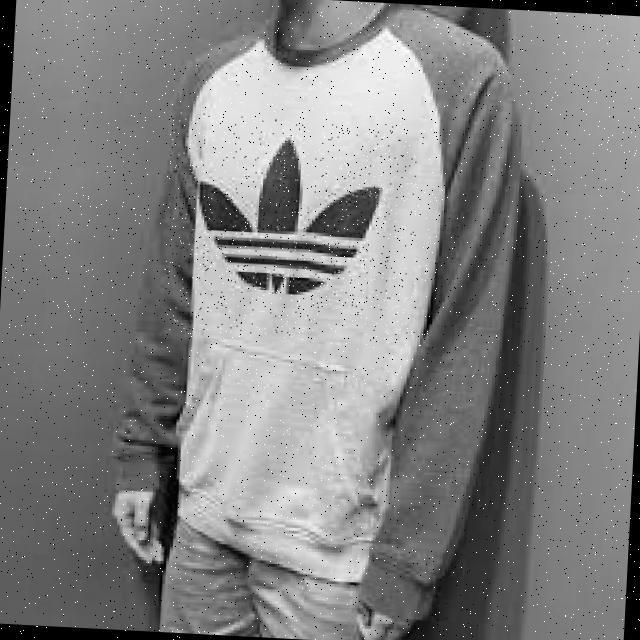Adidas: (162, 112, 426, 344)
